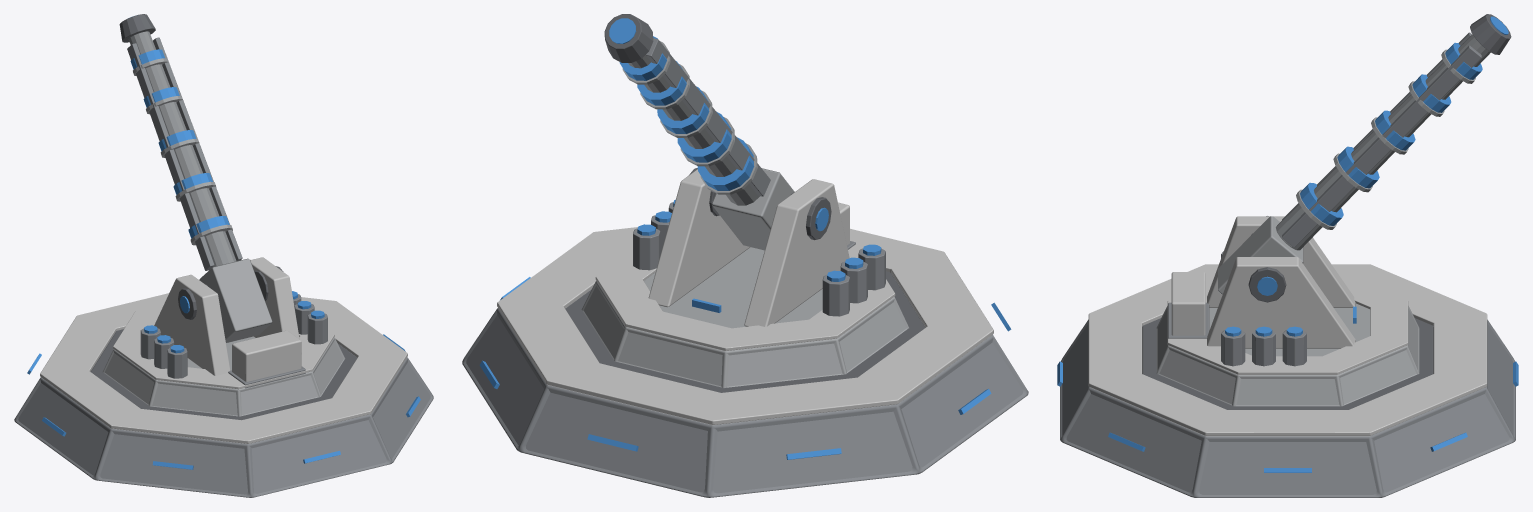
The model's file is lattice_plasma_battery.glb.
3 renders of one model, left to right at view 1: azimuth 30°, elevation 25°; view 2: azimuth 150°, elevation 25°; view 3: azimuth 270°, elevation 25°, orthographic. The views are drawn at different scales.
Visible parts, largest first — view 1: Body, Turret; view 2: Body, Turret; view 3: Body, Turret.
Part boxes in pixels (x1,y1,x2,y2): Body: (14, 293, 433, 497); Turret: (103, 14, 345, 416); Body: (462, 227, 1028, 497); Turret: (581, 14, 908, 387); Body: (1057, 264, 1518, 497); Turret: (1156, 14, 1511, 406).
Size of the model in its own units: 13.46 by 12.43 by 13.46.
